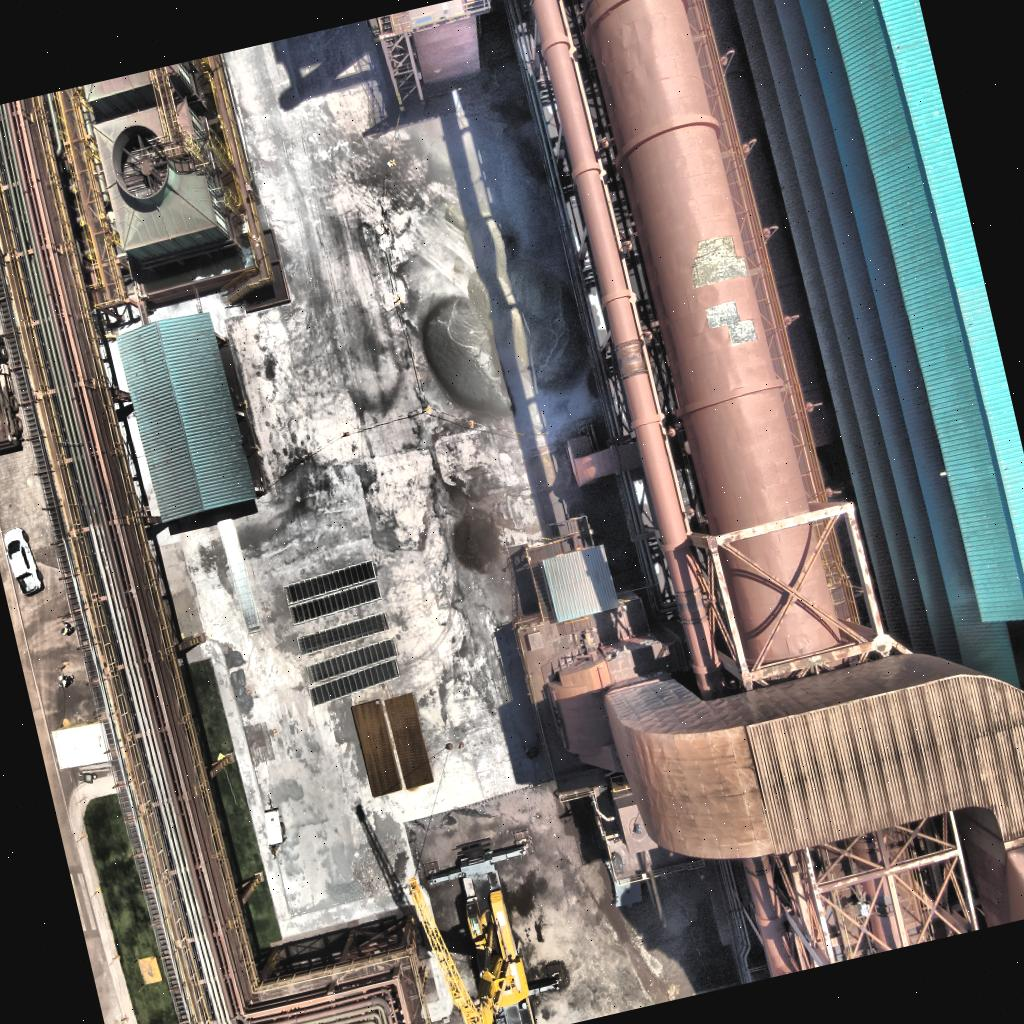Failures: (683, 231, 749, 290), (704, 298, 758, 351)
